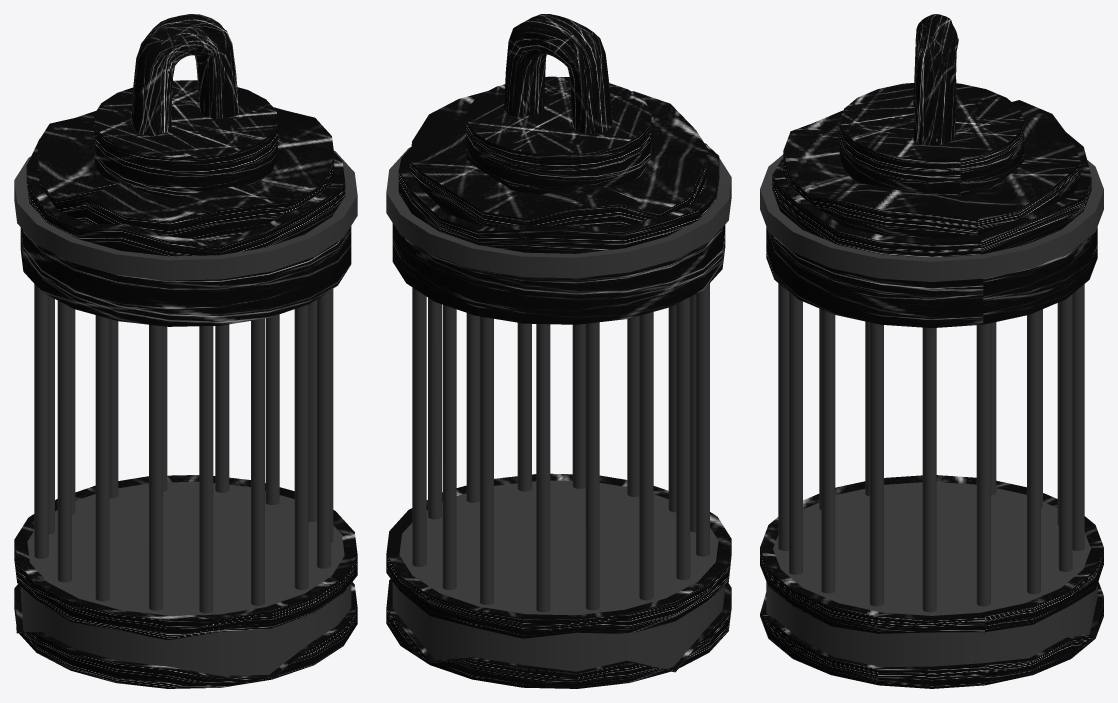
The model's file is Cage 2.0.fbx.
3 views of the same model, side by side, from view 1: azimuth 30°, elevation 25°; view 2: azimuth 150°, elevation 25°; view 3: azimuth 270°, elevation 25° (orthographic).
Parts seen in each view (by area): view 1: pCylinder1, pCylinder16, pCylinder13, pCylinder17, pCylinder3, pCylinder14, pTorus8, pCylinder15, pCylinder2, pCylinder24, pCylinder23, pCylinder25 (+13 smaller); view 2: pCylinder1, pCylinder16, pCylinder13, pCylinder17, pCylinder3, pCylinder14, pTorus8, pCylinder15, pCylinder2, pCylinder21, pCylinder12, pCylinder22 (+12 smaller); view 3: pCylinder1, pCylinder16, pCylinder17, pCylinder13, pCylinder3, pCylinder14, pCylinder15, pCylinder2, pTorus8, pCylinder5, pCylinder19, pCylinder18 (+9 smaller).
Part boxes in pixels (x1=…): pCylinder1: x1=20, y1=481, x2=351, y2=675; pCylinder16: x1=37, y1=107, x2=334, y2=241; pCylinder13: x1=20, y1=226, x2=351, y2=326; pCylinder17: x1=94, y1=80, x2=277, y2=197; pCylinder3: x1=14, y1=475, x2=357, y2=640; pCylinder14: x1=14, y1=150, x2=357, y2=280; pTorus8: x1=130, y1=14, x2=239, y2=135; pCylinder15: x1=26, y1=139, x2=345, y2=256; pCylinder2: x1=14, y1=582, x2=357, y2=688; pCylinder24: x1=199, y1=326, x2=213, y2=613; pCylinder23: x1=95, y1=315, x2=109, y2=601; pCylinder25: x1=294, y1=304, x2=308, y2=589; pCylinder1: x1=392, y1=480, x2=725, y2=671; pCylinder16: x1=409, y1=91, x2=708, y2=227; pCylinder13: x1=392, y1=223, x2=725, y2=324; pCylinder17: x1=466, y1=76, x2=651, y2=194; pCylinder3: x1=386, y1=473, x2=731, y2=638; pCylinder14: x1=386, y1=147, x2=731, y2=278; pTorus8: x1=504, y1=14, x2=613, y2=133; pCylinder15: x1=398, y1=143, x2=719, y2=253; pCylinder2: x1=386, y1=579, x2=731, y2=688; pCylinder21: x1=536, y1=324, x2=550, y2=612; pCylinder12: x1=585, y1=322, x2=599, y2=610; pCylinder22: x1=639, y1=312, x2=653, y2=600; pCylinder1: x1=766, y1=482, x2=1097, y2=666; pCylinder16: x1=783, y1=100, x2=1080, y2=238; pCylinder17: x1=839, y1=83, x2=1024, y2=196; pCylinder13: x1=766, y1=227, x2=1097, y2=327; pCylinder3: x1=760, y1=475, x2=1103, y2=633; pCylinder14: x1=760, y1=154, x2=1103, y2=281; pCylinder15: x1=772, y1=132, x2=1091, y2=257; pCylinder2: x1=760, y1=581, x2=1103, y2=688; pTorus8: x1=913, y1=14, x2=958, y2=145; pCylinder5: x1=922, y1=327, x2=936, y2=612; pCylinder19: x1=869, y1=322, x2=883, y2=606; pCylinder18: x1=976, y1=323, x2=990, y2=606.
Bounding box in the file's own units: 5.7 × 10.93 × 5.7.
